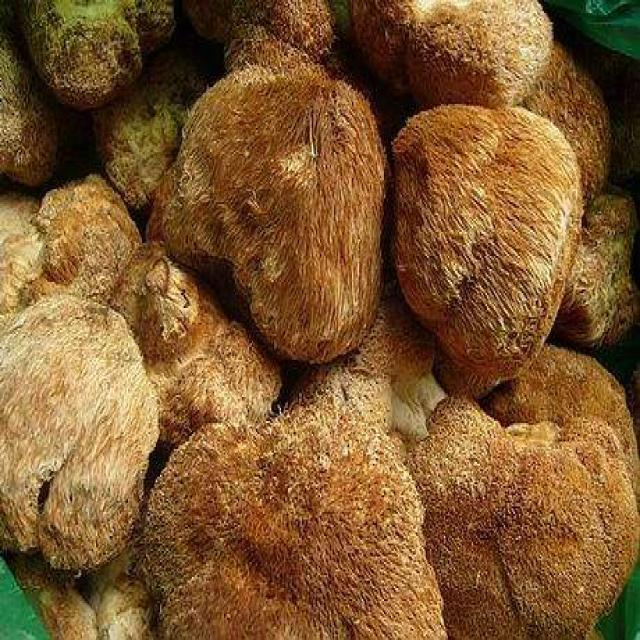Hericium erinaceus: (158, 31, 382, 358), (143, 412, 445, 640), (413, 391, 640, 640), (395, 104, 583, 386), (0, 297, 156, 568), (346, 0, 555, 112)
